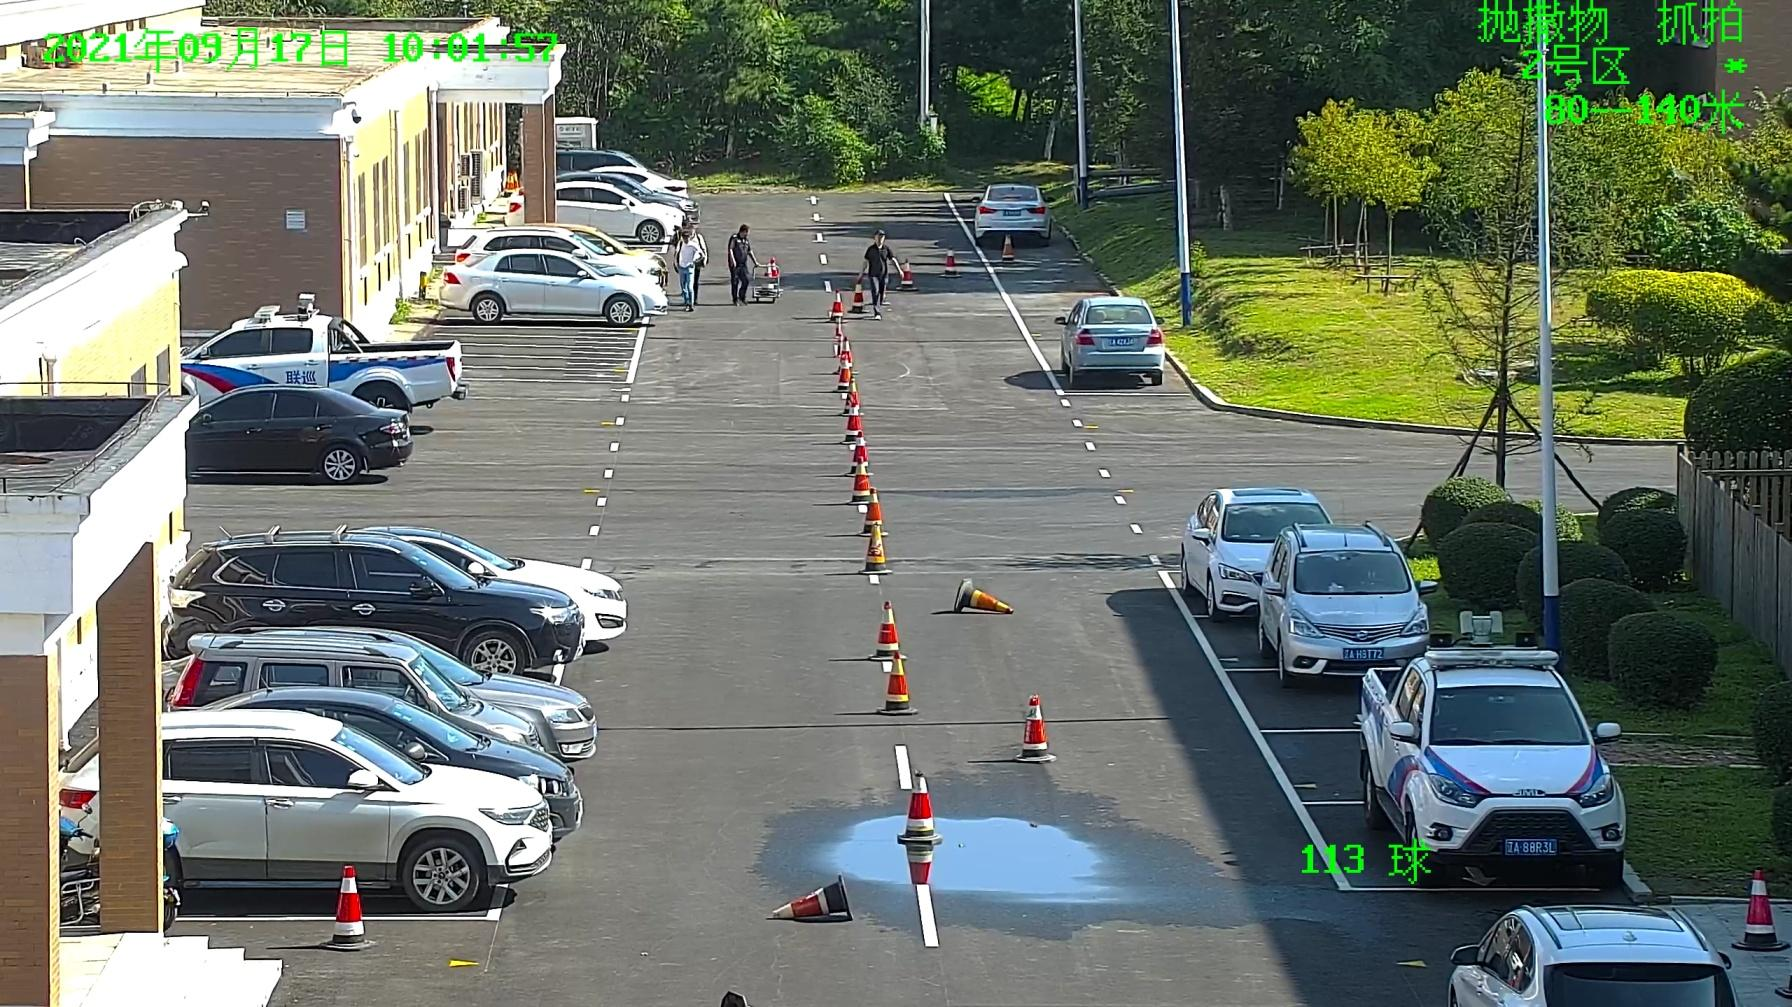cone_barrel: (864, 593, 914, 716), (322, 857, 370, 949), (769, 873, 854, 925), (1734, 863, 1781, 952), (1012, 688, 1055, 758), (951, 577, 1017, 617), (901, 772, 935, 838), (857, 523, 892, 572), (901, 841, 935, 888), (857, 489, 885, 536), (844, 432, 871, 478), (846, 457, 871, 503), (839, 404, 863, 444), (842, 378, 862, 416), (847, 279, 866, 314), (897, 259, 918, 291), (834, 355, 852, 393), (940, 247, 960, 278), (828, 291, 846, 323), (998, 233, 1017, 262), (766, 259, 780, 279)
